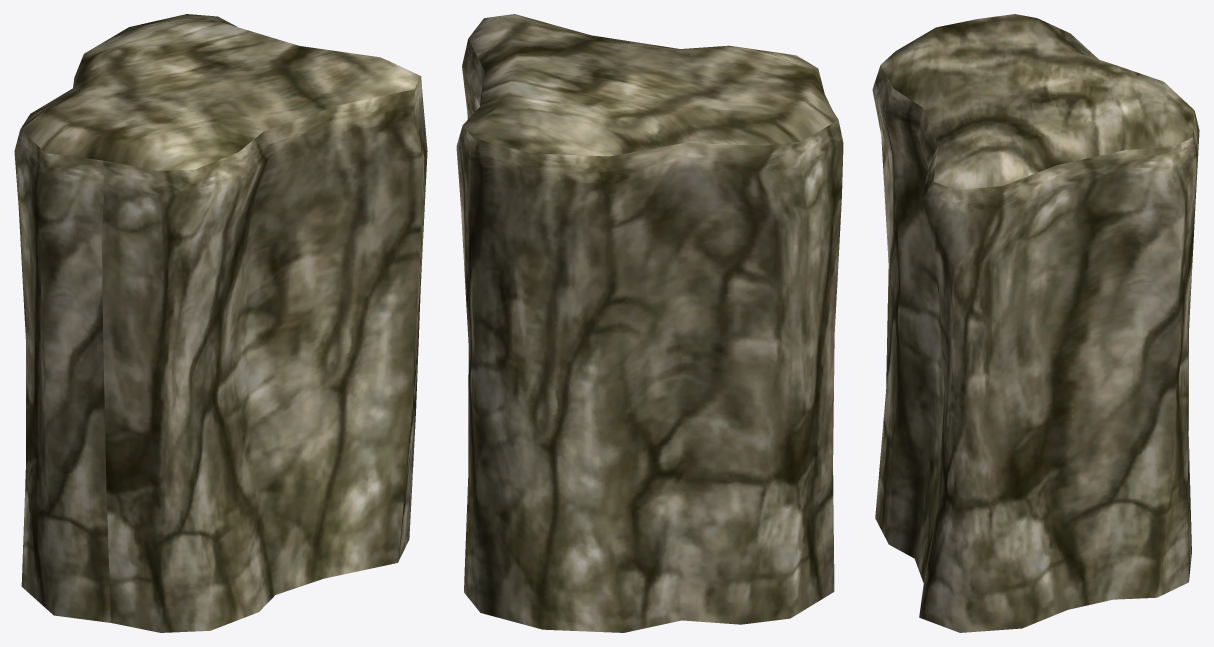
The model's file is CB_PLATFORM01.fbx.
3 views of the same model, side by side, from view 1: azimuth 30°, elevation 25°; view 2: azimuth 150°, elevation 25°; view 3: azimuth 270°, elevation 25° (orthographic). The views are drawn at different scales.
Parts seen in each view (by area): view 1: CB_PLATFORM01; view 2: CB_PLATFORM01; view 3: CB_PLATFORM01.
Part boxes in pixels (x1=…): CB_PLATFORM01: x1=14, y1=14, x2=427, y2=632; CB_PLATFORM01: x1=456, y1=14, x2=843, y2=632; CB_PLATFORM01: x1=872, y1=14, x2=1199, y2=632.
Bounding box in the file's own units: 31378 × 38878 × 24868.
Materials: 2 (2 with a texture image).
